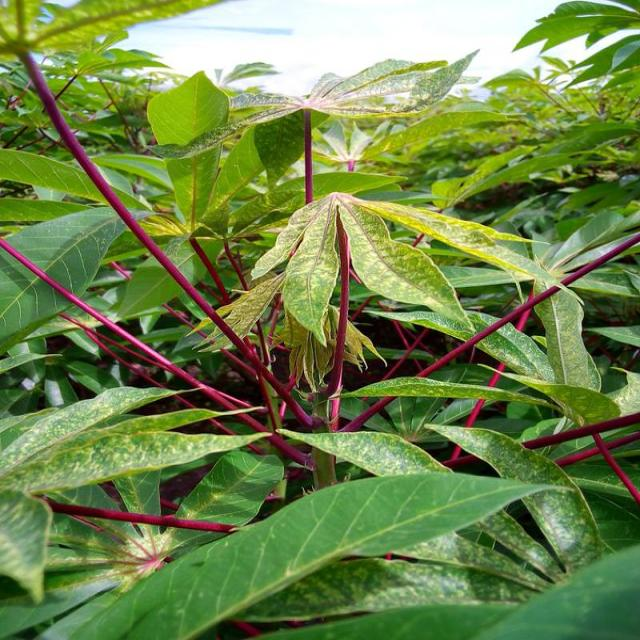cassava leaf: (2, 31, 638, 637), (70, 468, 566, 638)
